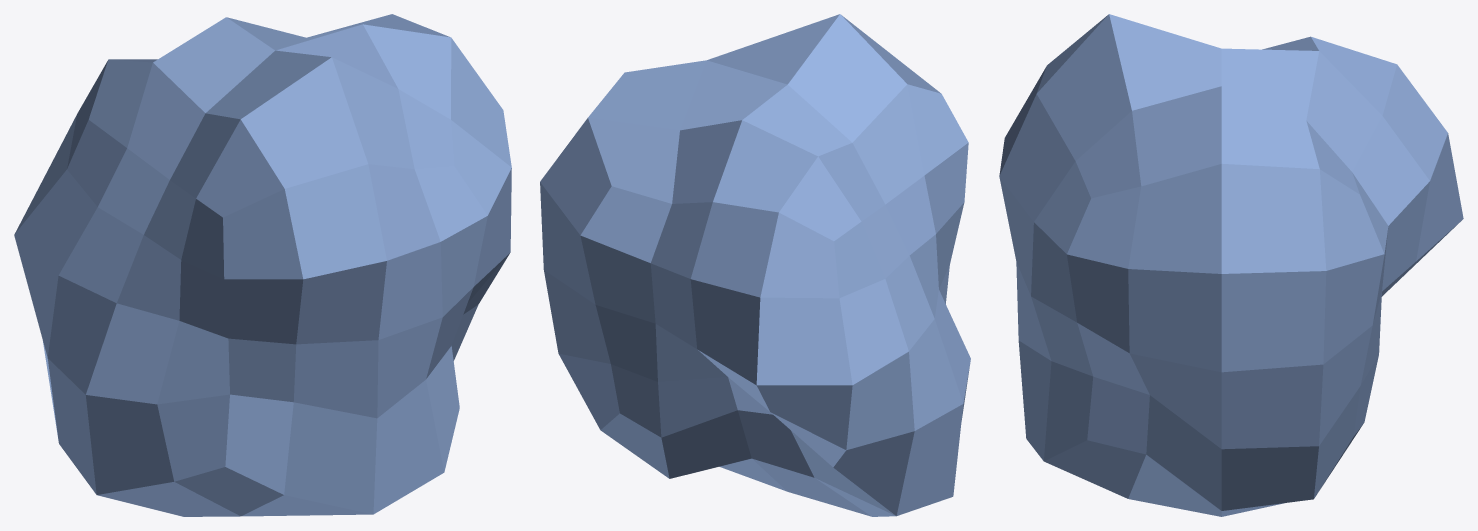
File: Meteorite02001RS.fbx
3 views of the same model, side by side, from view 1: azimuth 30°, elevation 25°; view 2: azimuth 150°, elevation 25°; view 3: azimuth 270°, elevation 25° (orthographic). The views are drawn at different scales.
Visible parts, largest first — view 1: Meteorite02; view 2: Meteorite02; view 3: Meteorite02.
Part boxes in pixels (bbox=[...]): Meteorite02: bbox=[14, 14, 511, 516]; Meteorite02: bbox=[540, 14, 970, 516]; Meteorite02: bbox=[999, 14, 1463, 516].
Size of the model in its own units: 359 by 394 by 348.
